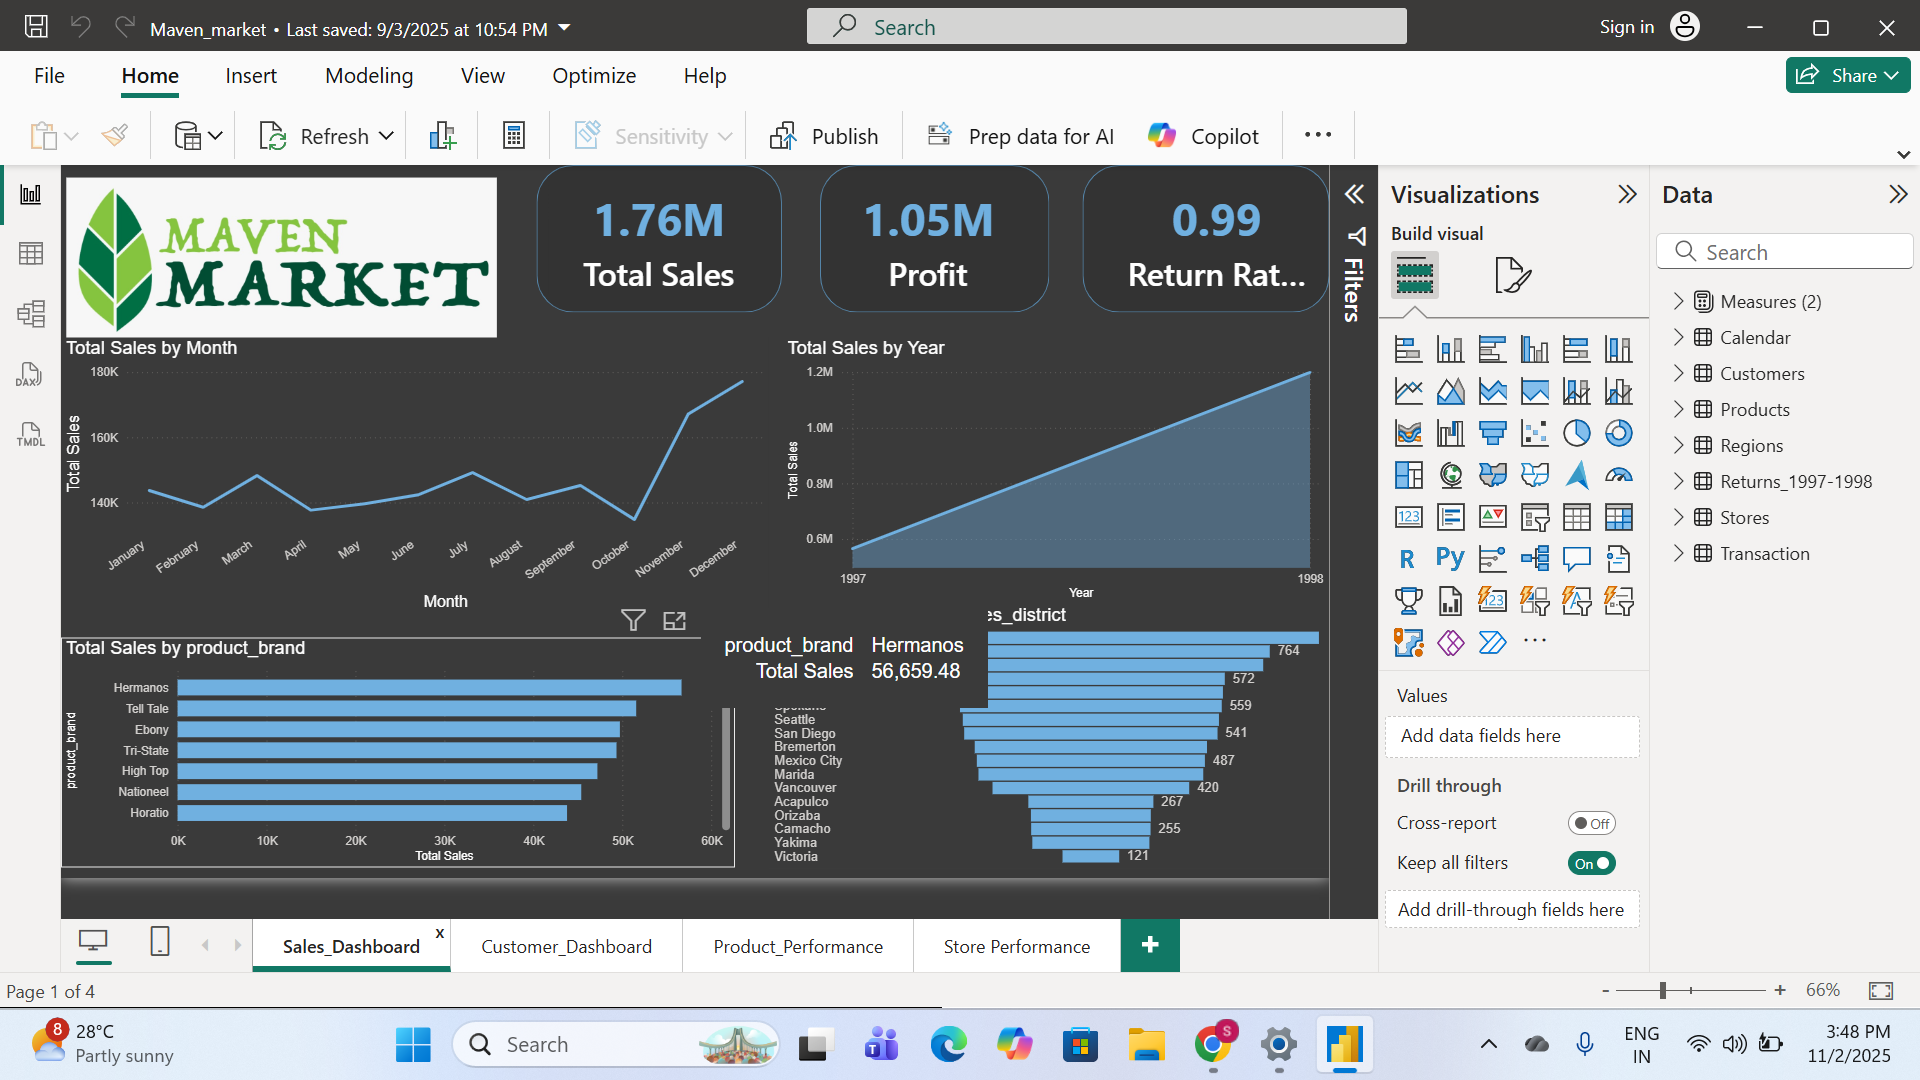

What the dashboard file says about the page in this screenshot:
{"tool":"powerbi","page":{"name":"Sales_Dashboard","canvas":[1280,720],"ordinal":0},"visuals":[{"type":"image","box":[0,0,445.3,191.1],"z":0},{"type":"shape","box":[479.3,0,247.7,149],"z":1000},{"type":"card","fields":{"Values":["Measures (2).Total Sales"]},"box":[492.2,17.8,221.8,111.7],"z":2000},{"type":"shape","box":[765.9,0,231.5,149],"z":3000},{"type":"shape","box":[1031.4,0,249.4,149],"z":4000},{"type":"card","fields":{"Values":["Measures (2).Profit"]},"box":[775.6,17.8,199.2,111.7],"z":5000},{"type":"card","fields":{"Values":["Measures (2).Return Rate (%)"]},"box":[1065.5,17.8,200.8,111.7],"z":6000},{"type":"lineChart","fields":{"Category":["Calendar.Date.Variation.Date Hierarchy.Month"],"Y":["Measures (2).Total Sales"]},"box":[0,174.9,714.1,280.1],"z":7000},{"type":"barChart","fields":{"Category":["Products.product_brand"],"Y":["Measures (2).Total Sales"]},"box":[0,477.7,680.1,231.5],"z":8000},{"type":"areaChart","fields":{"Category":["Calendar.Year"],"Y":["Measures (2).Total Sales"]},"box":[728.3,174.1,551.2,269.5],"z":9000},{"type":"funnel","fields":{"Category":["Regions.sales_district"],"Y":["Measures (2).Quantity_Returned"]},"box":[714.7,443.7,564.8,266.5],"z":10000}]}

Visuals, with their boxes on the page's 1280x720 design canvas (x1, y1, x2, y2). These are canvas units, not pixel positions in the 1920x1080 screenshot, which may show the page scaled, cropped or inside an application window:
image: (0, 0, 445, 191)
shape: (479, 0, 727, 149)
card - Measures (2).Total Sales: (492, 18, 714, 130)
shape: (766, 0, 997, 149)
shape: (1031, 0, 1281, 149)
card - Measures (2).Profit: (776, 18, 975, 130)
card - Measures (2).Return Rate (%): (1066, 18, 1266, 130)
lineChart - Calendar.Date.Variation.Date Hierarchy.Month x Measures (2).Total Sales: (0, 175, 714, 455)
barChart - Products.product_brand x Measures (2).Total Sales: (0, 478, 680, 709)
areaChart - Calendar.Year x Measures (2).Total Sales: (728, 174, 1280, 444)
funnel - Regions.sales_district x Measures (2).Quantity_Returned: (715, 444, 1280, 710)
